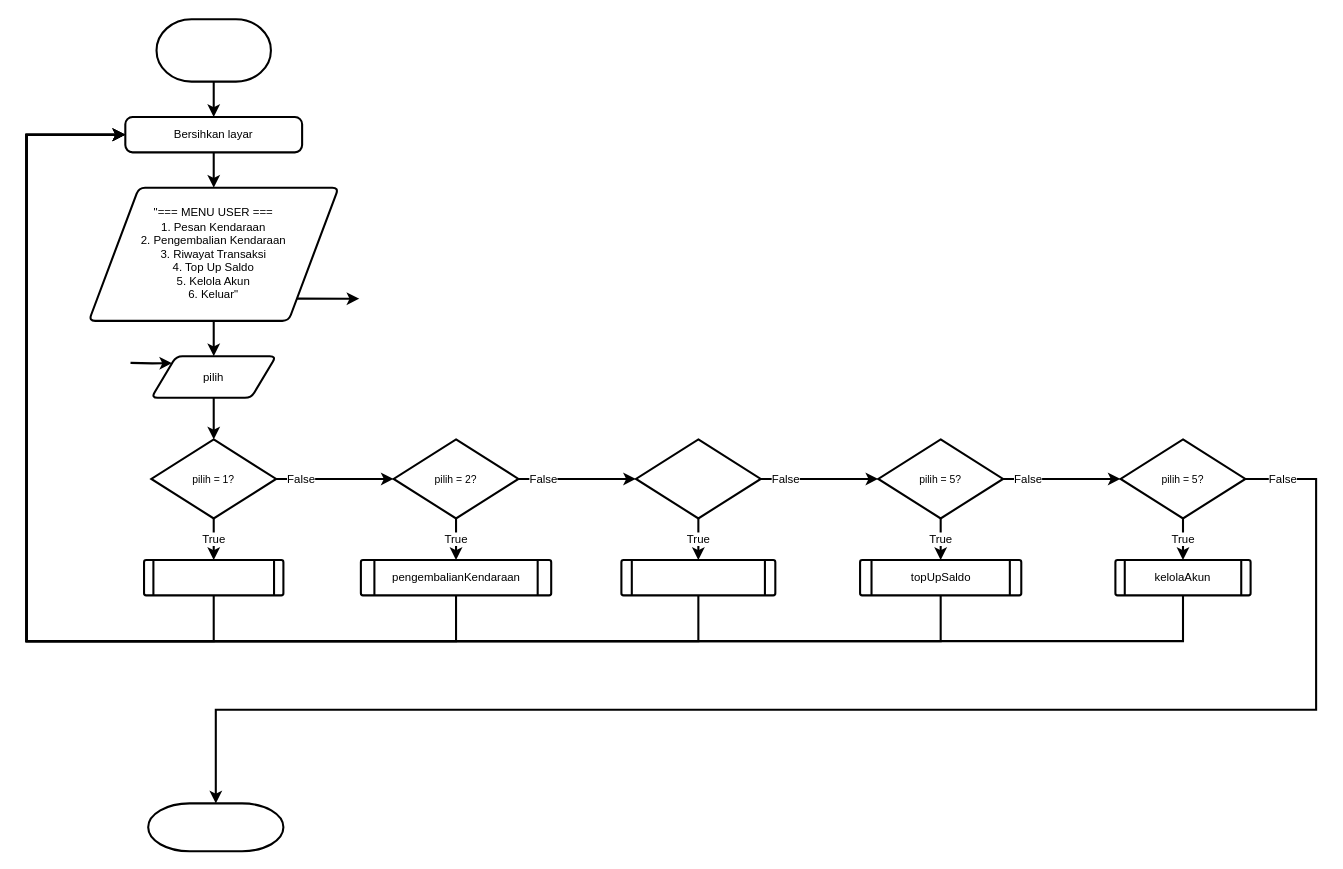
Image size: 1343x869. Some labels were removed from this diagram. Each missing label, with the box of its shape:
End: (147, 802, 284, 852)
menuUser: (155, 18, 271, 82)
pesanKendaraan: (142, 558, 284, 596)
pilih = 3?: (634, 438, 761, 519)
riwayatTransaksi: (620, 558, 776, 596)
